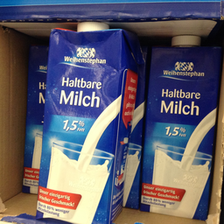milk: (36, 22, 139, 224), (141, 31, 221, 223)
